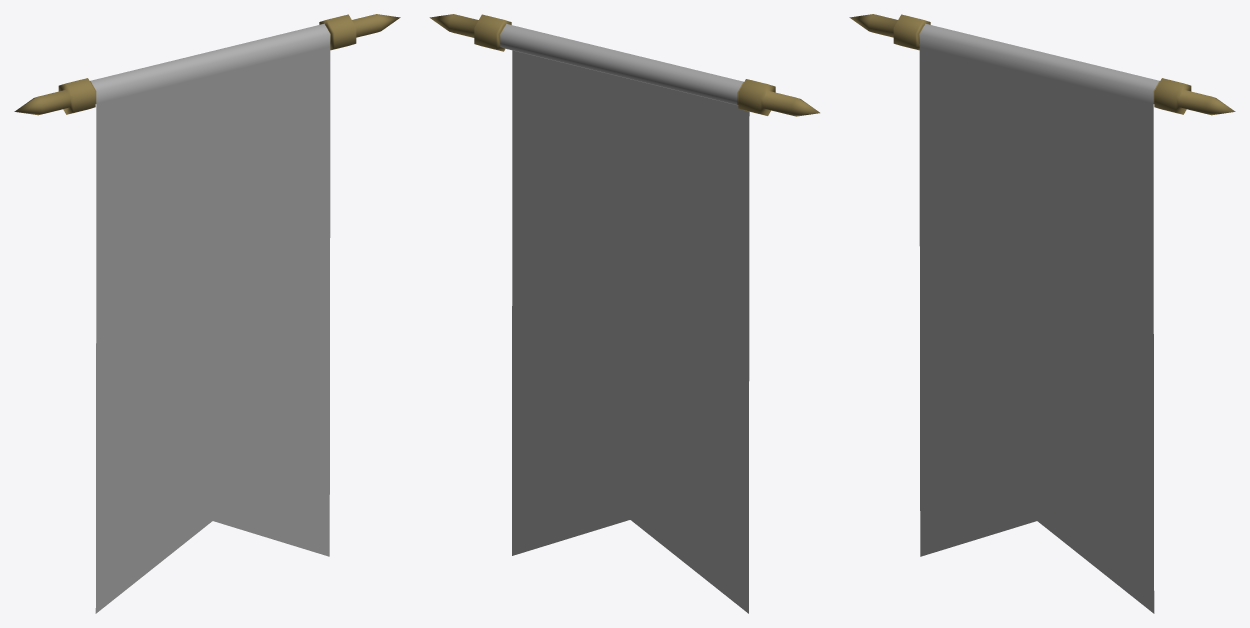
Rendered from banner.fbx.
3 renders of one model, left to right at view 1: azimuth 30°, elevation 25°; view 2: azimuth 150°, elevation 25°; view 3: azimuth 330°, elevation 25°, orthographic.
Parts seen in each view (by area): view 1: banner; view 2: banner; view 3: banner.
Boxes of the visible parts, x1,y1,x2,y2 form: banner: (14,14,400,613); banner: (429,14,819,613); banner: (849,14,1235,613).
Bounding box in the file's own units: 134 × 177 × 9.09.
